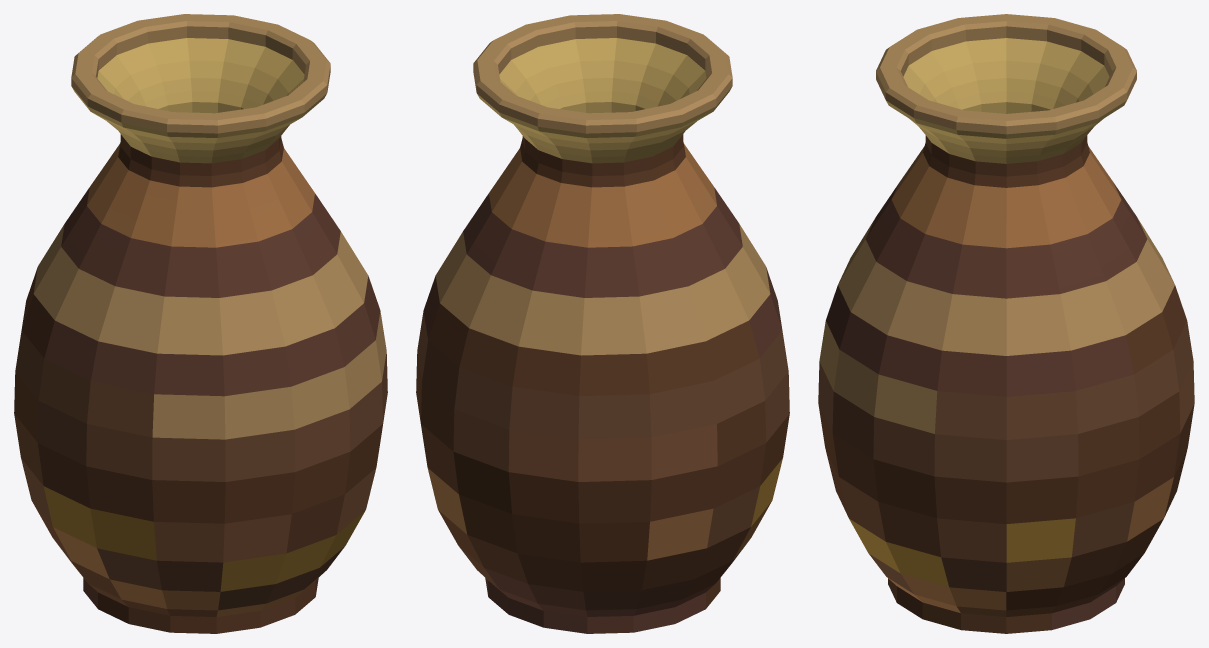
The model's file is fixed_vase_003.glb.
The picture shows the model from 3 angles, left to right: view 1: azimuth 30°, elevation 25°; view 2: azimuth 150°, elevation 25°; view 3: azimuth 270°, elevation 25°; orthographic projection.
Parts seen in each view (by area): view 1: Vase.003; view 2: Vase.003; view 3: Vase.003.
Part boxes in pixels (x1,y1,x2,y2): Vase.003: (14, 14, 387, 633); Vase.003: (416, 14, 789, 633); Vase.003: (818, 14, 1194, 633).
Size of the model in its own units: 0.1652 by 0.25 by 0.1652.
